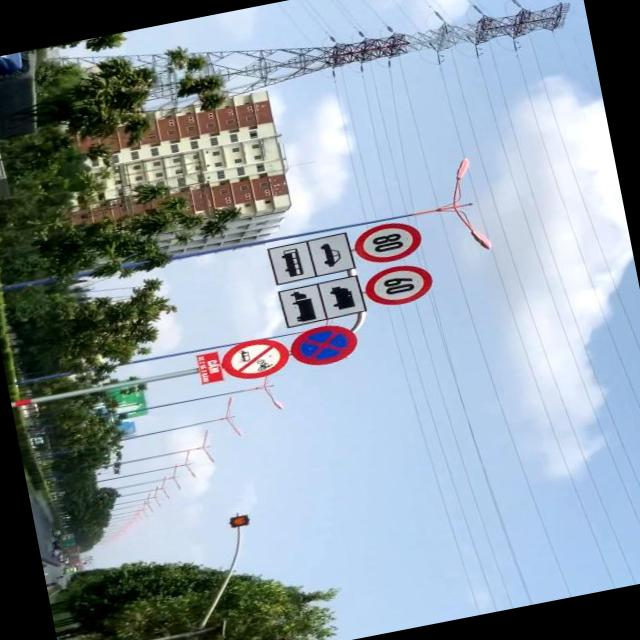P-104: (218, 336, 293, 384)
P-127: (362, 261, 436, 310), (351, 218, 423, 266)
P-130: (286, 319, 359, 372)
